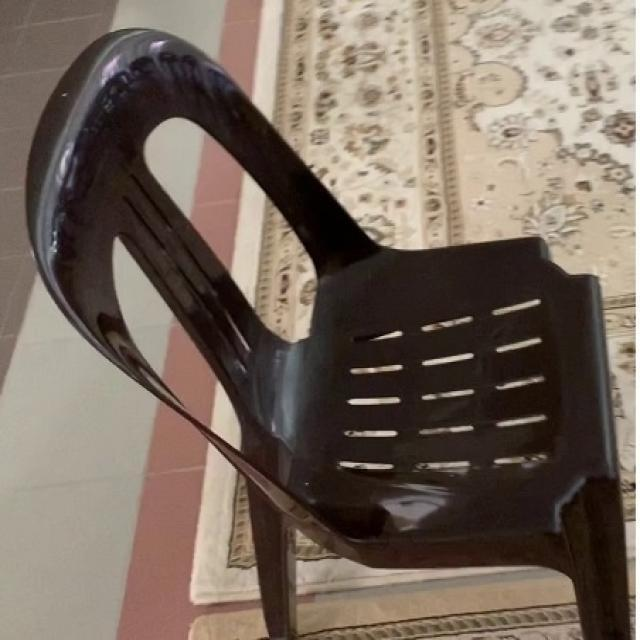chair: (24, 23, 630, 637)
